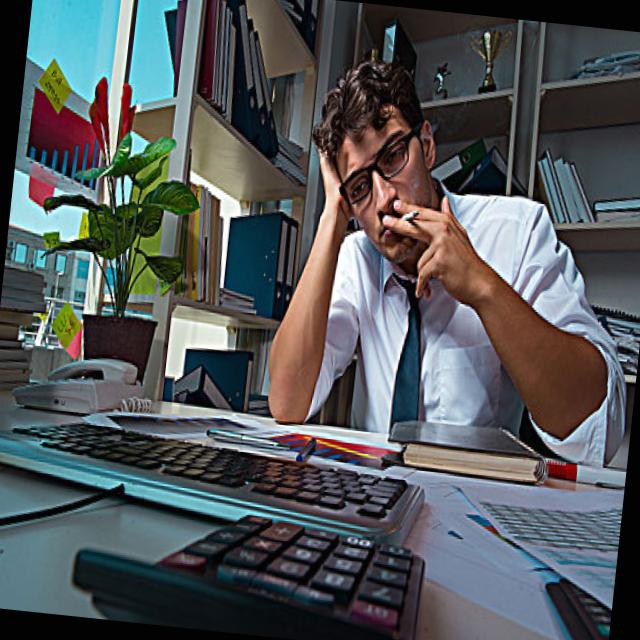cigarette: (398, 200, 422, 237)
